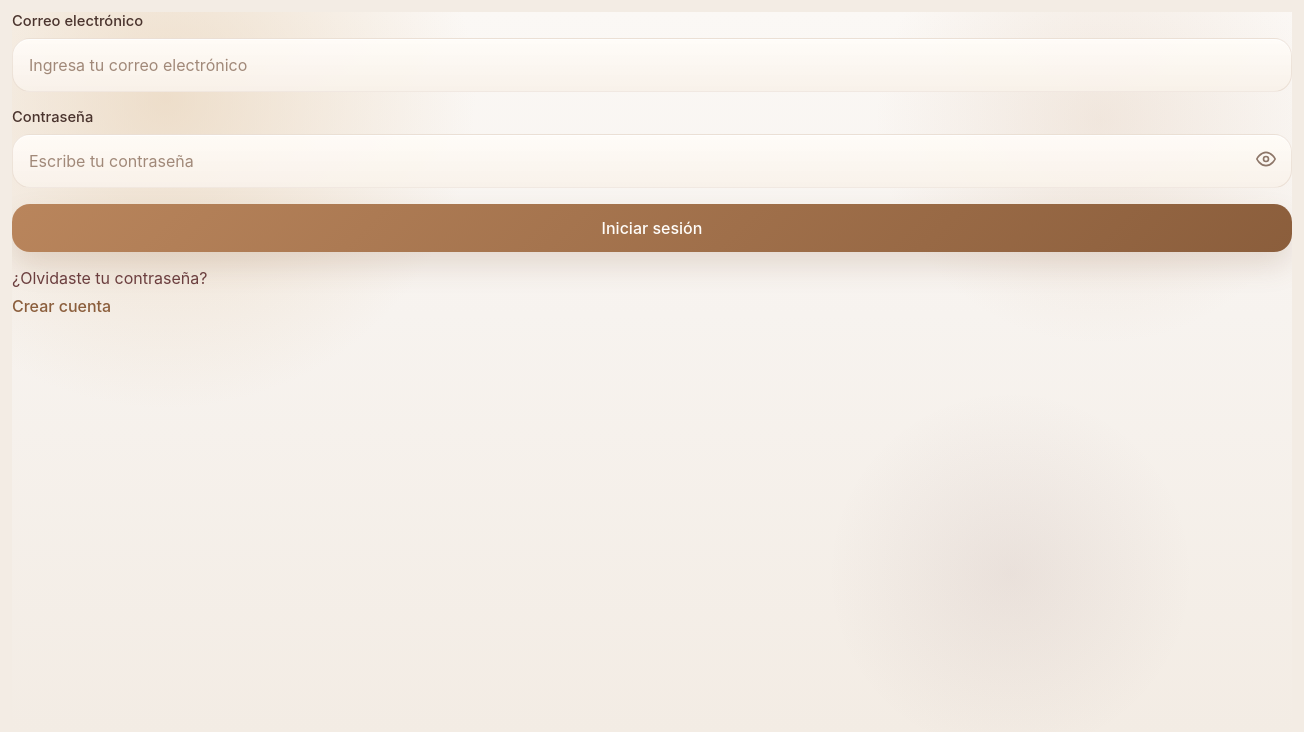
Scenario: LoginForm › falls back to the backend message for errors without a known code
Type "player@toastedvr.test" into the field with placeholder "Ingresa tu correo electrónico" at (652, 65), box [12,38,1292,92]
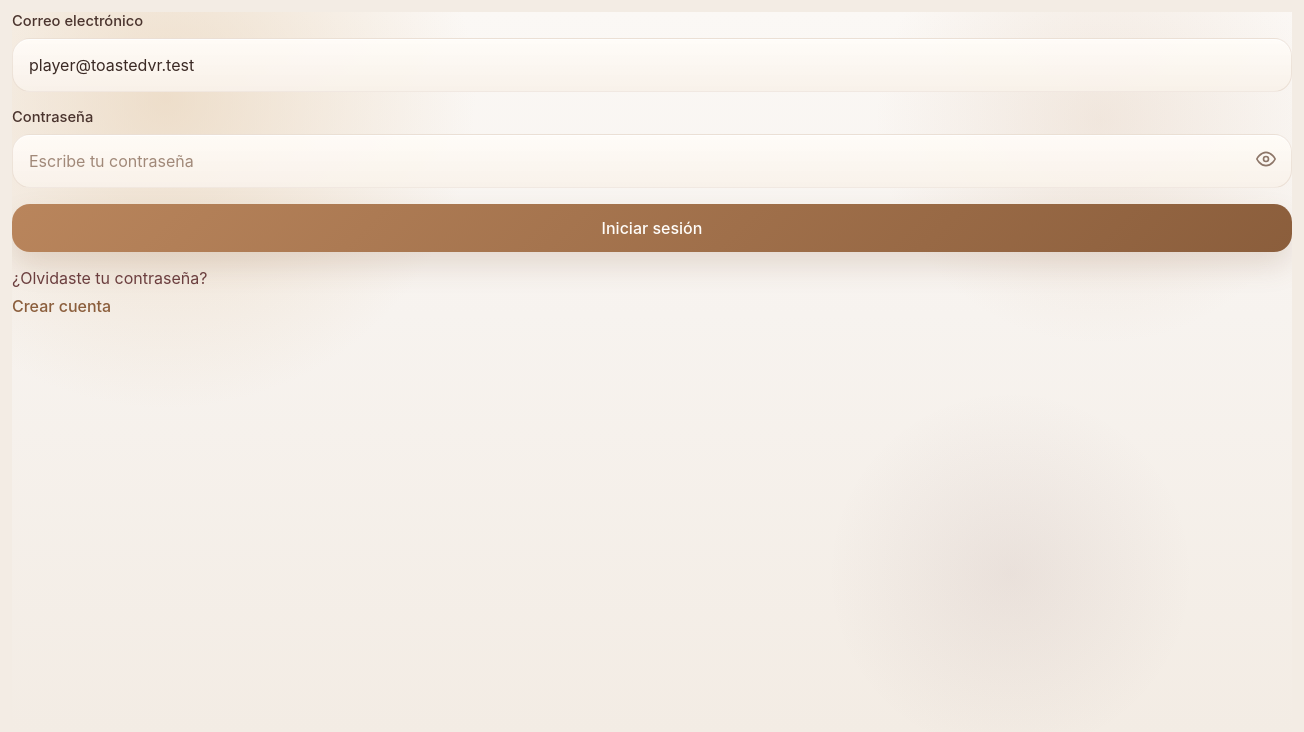
Type "Password123!" into the password field with placeholder "Escribe tu contraseña" at (652, 161), box [12,134,1292,188]
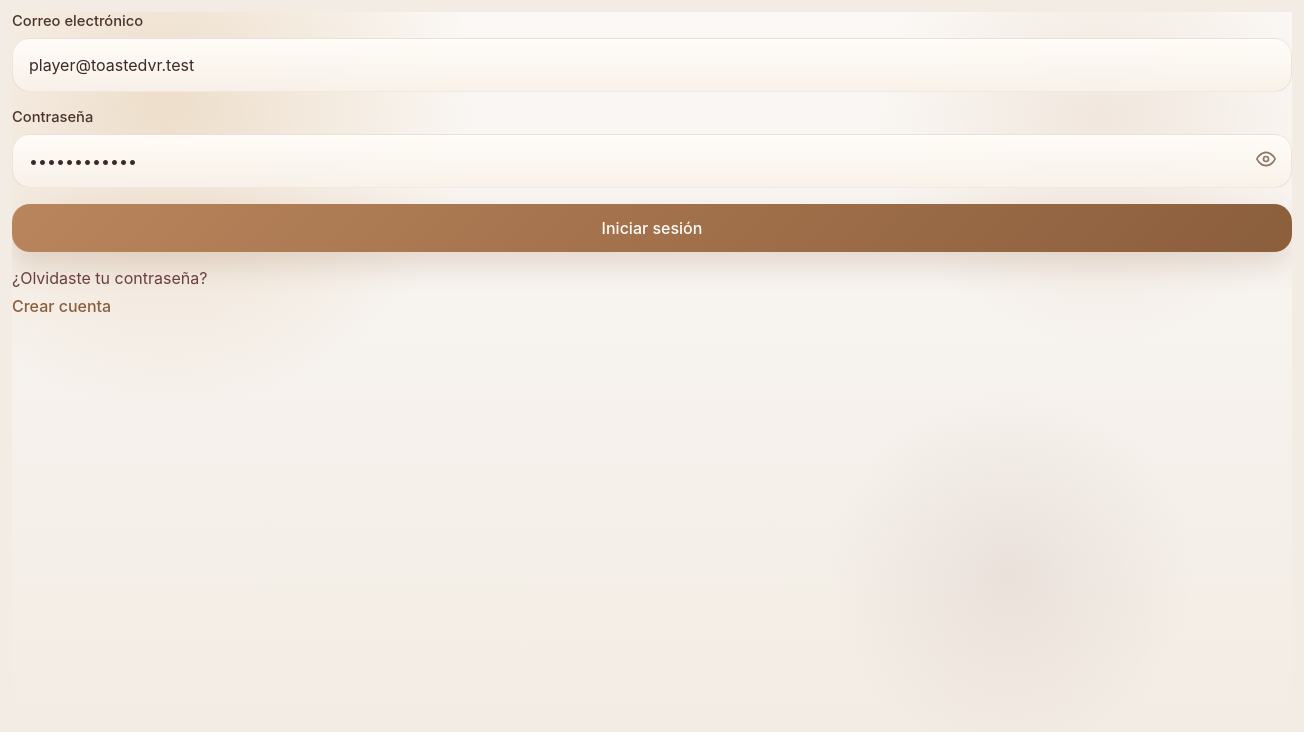
Click the button "Iniciar sesión" at (652, 228), box [12,204,1292,252]
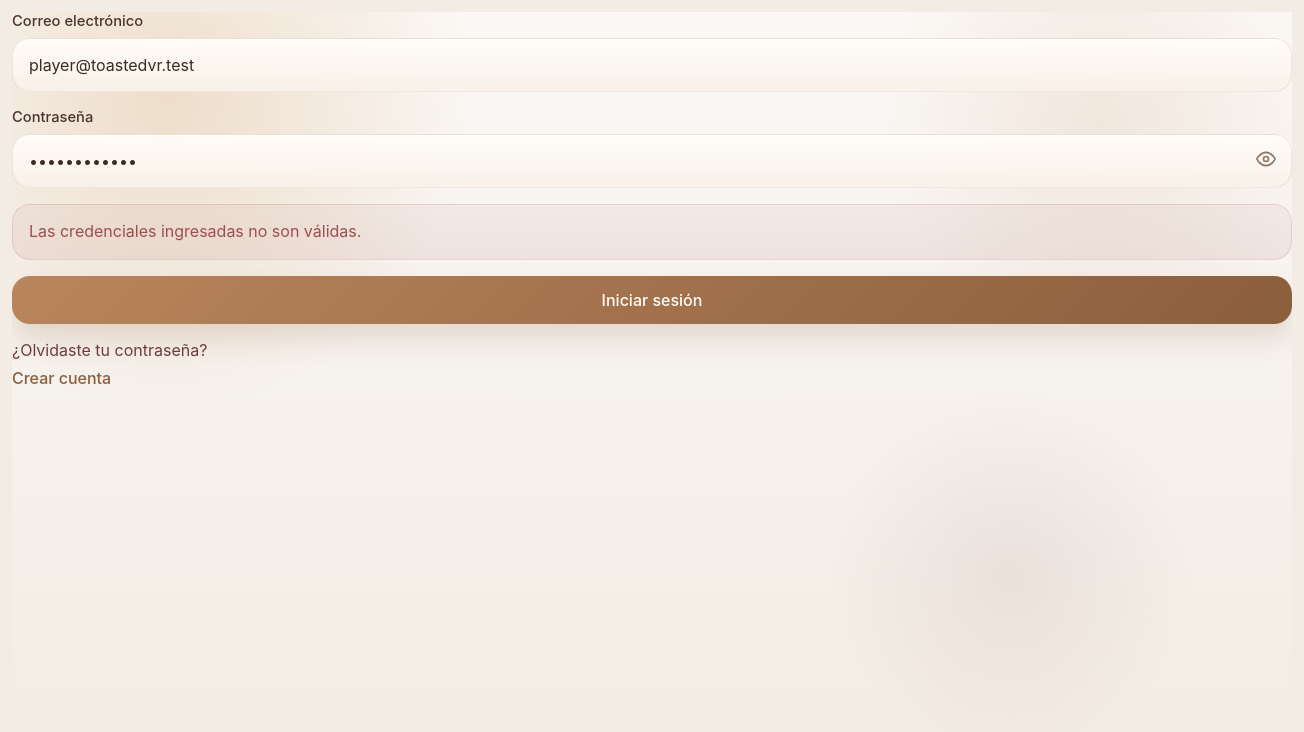
expect the text "Las credenciales ingresadas no son válidas." is shown: met, box [12,204,1292,260]
